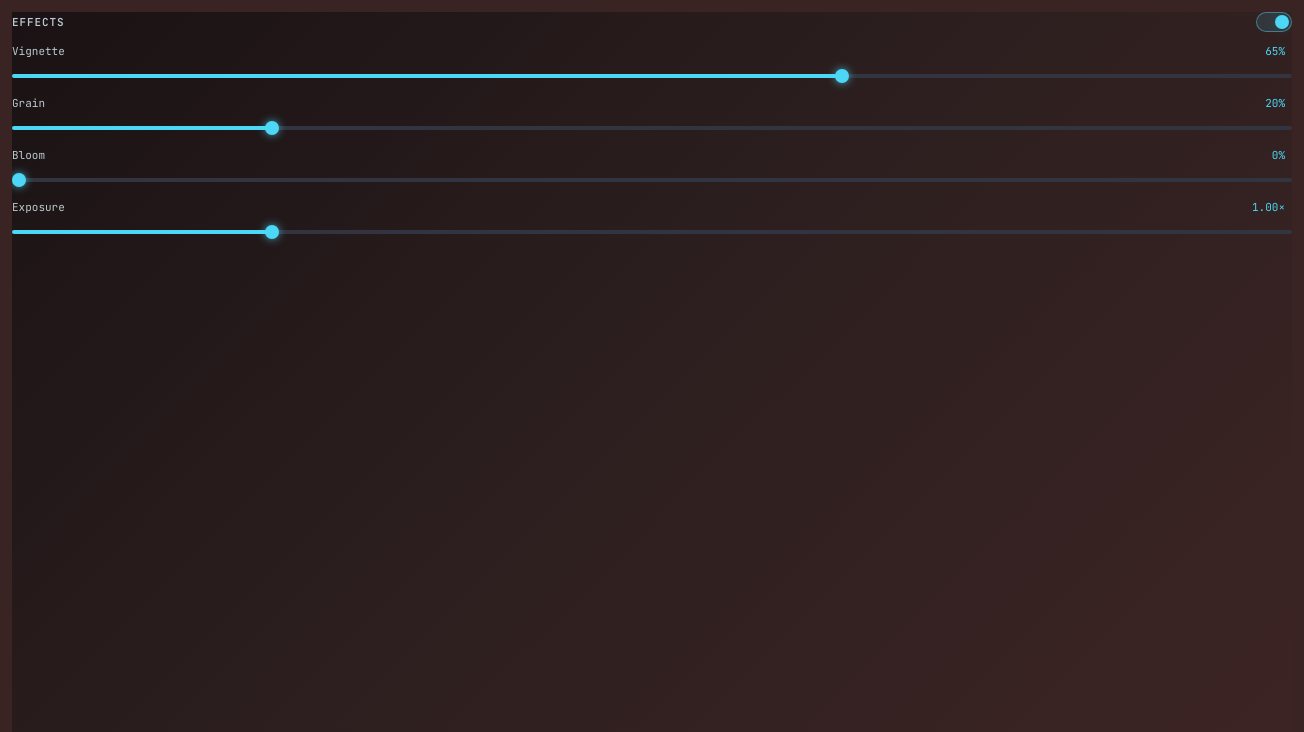
Test: FxPanel › ignores text that isn't a number
Replace the text in the field named "Vignette value" with "abc" at (1260, 51), box [1228,40,1292,62]
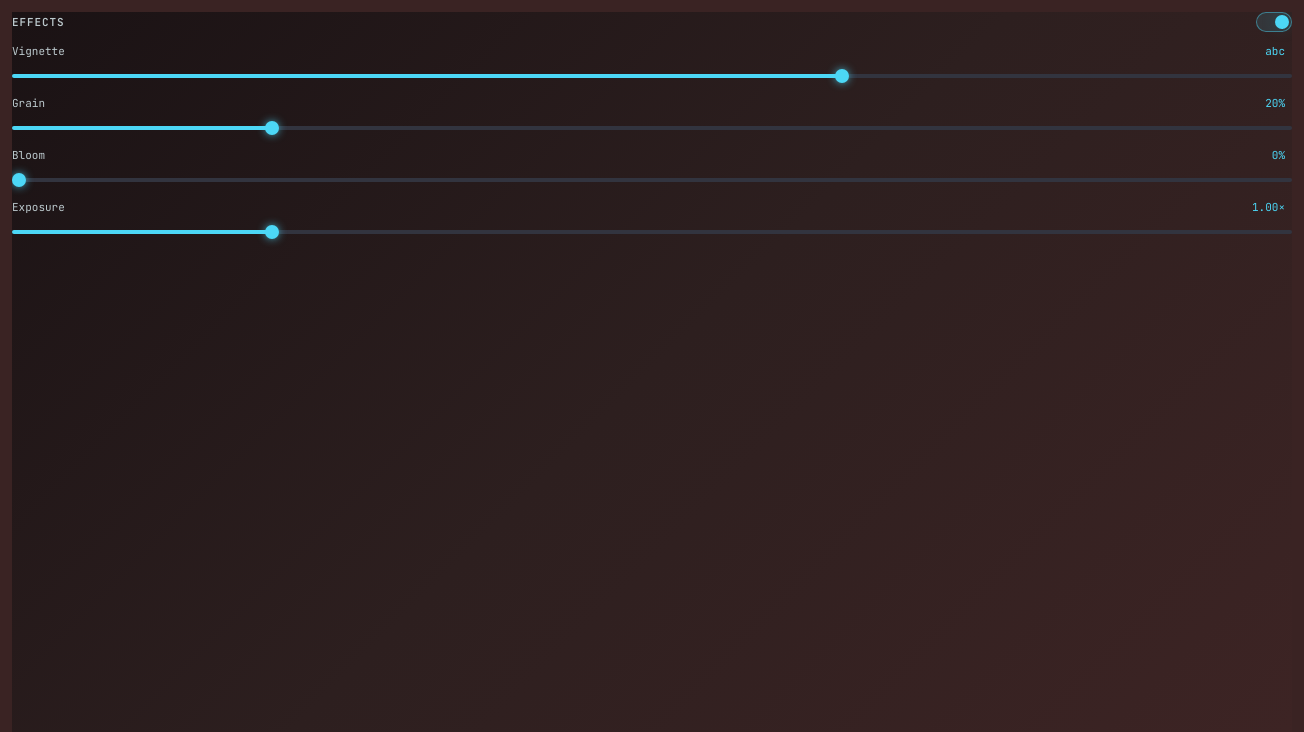
Leave the field named "Vignette value", box [1228,40,1292,62]
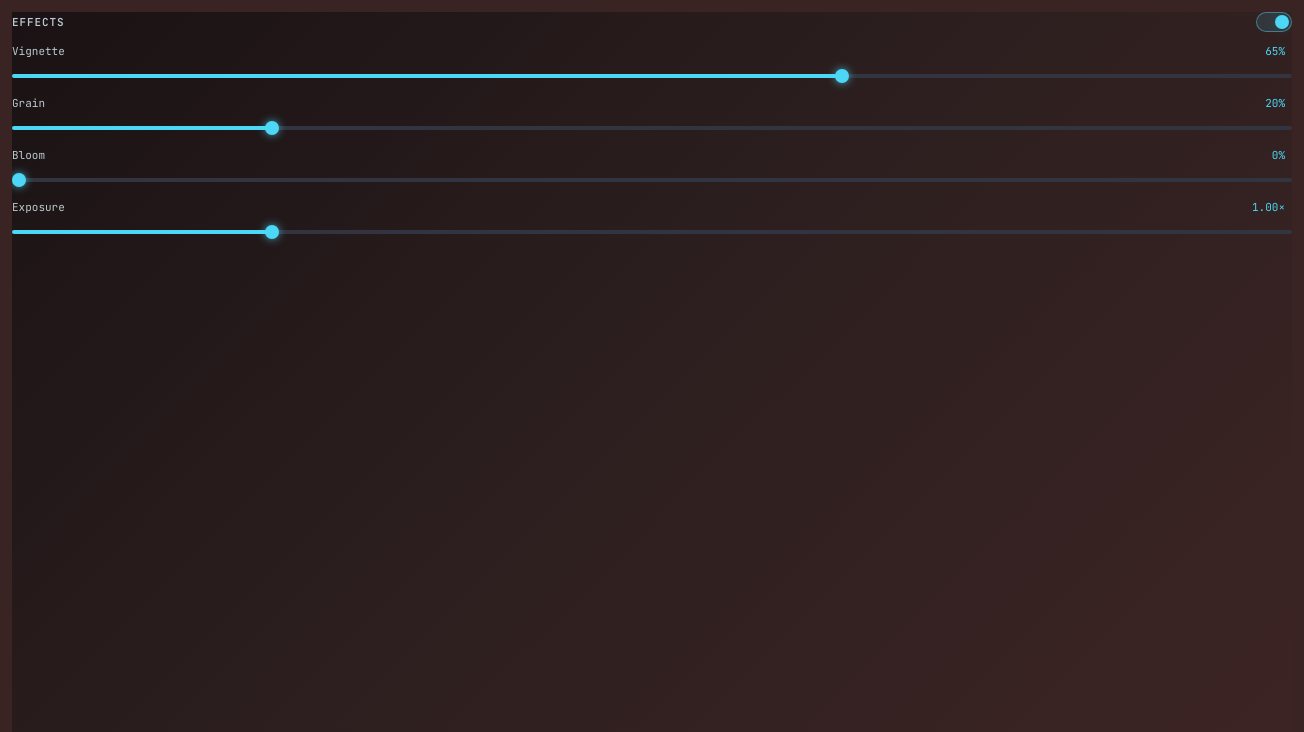
Expected: the field named "Vignette value" holds "65%", [1228,40,1292,62]
